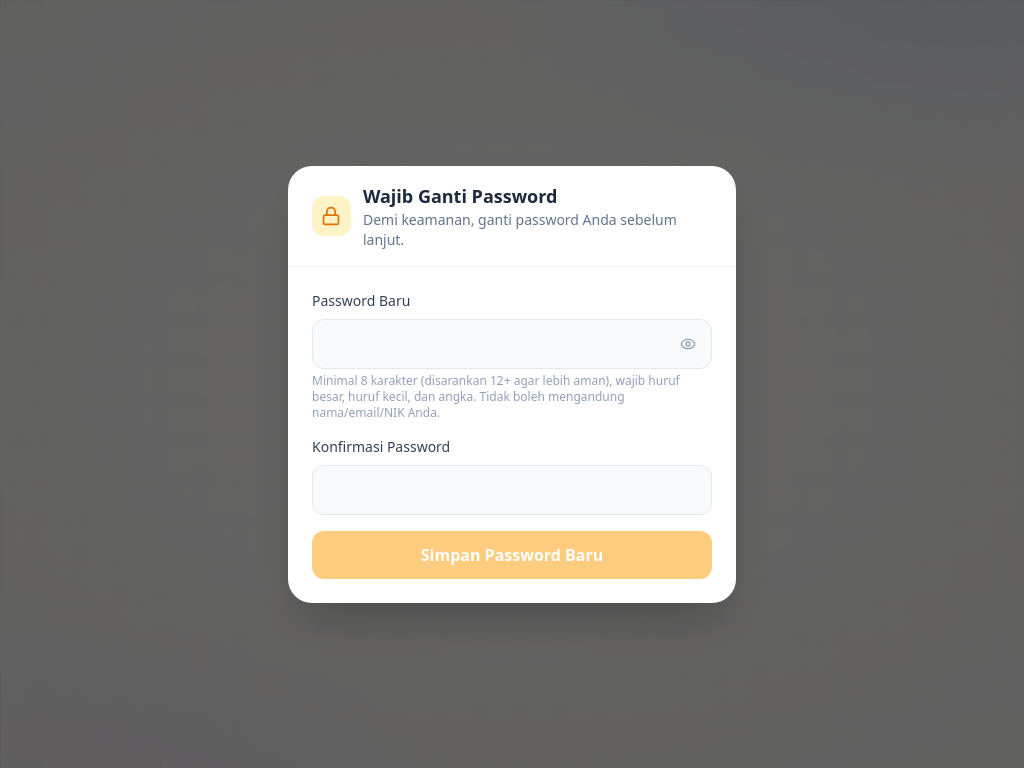
MustChangePasswordDialog › menolak password 123456 (terlalu pendek → ditangkap policy)
Type "123456" into the password field labelled "Password Baru" at (512, 344), box x1=312 y1=318 x2=712 y2=368
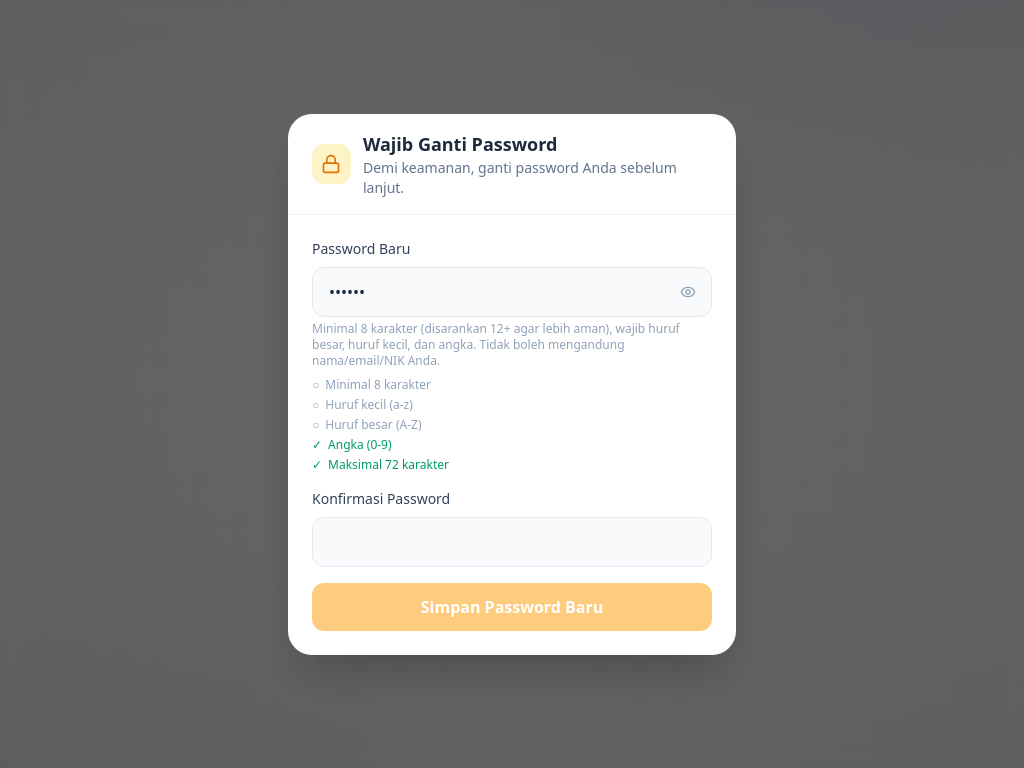
Type "123456" into the password field labelled "Konfirmasi Password" at (512, 542), box x1=312 y1=516 x2=712 y2=566
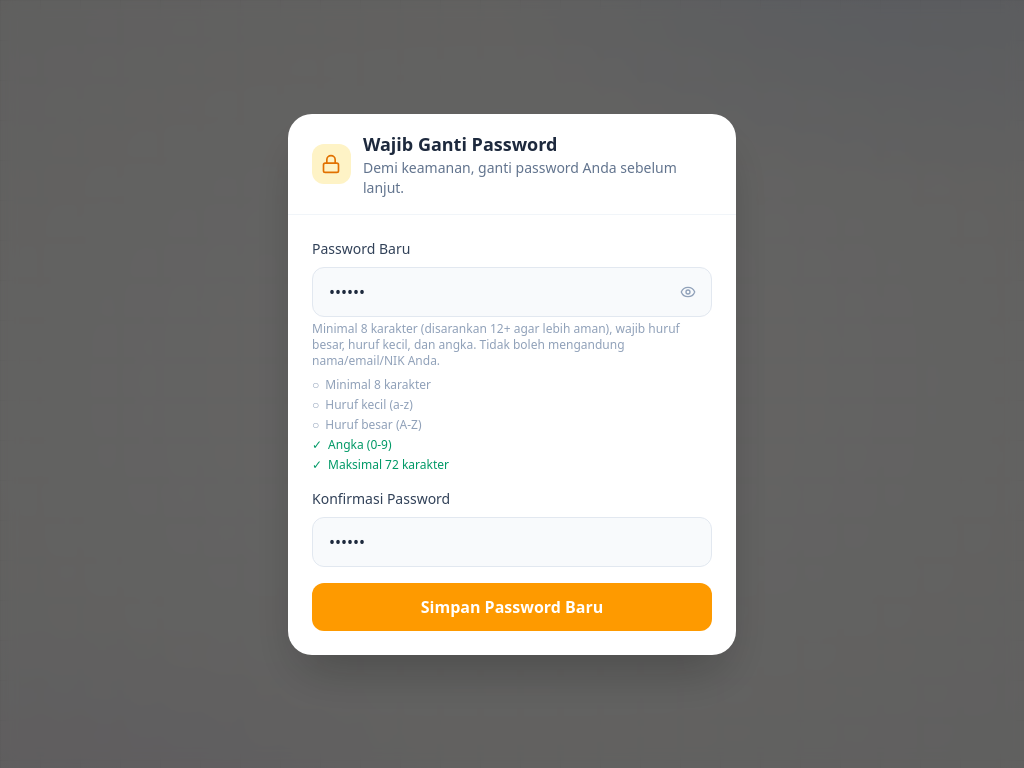
Click the button "Simpan Password Baru" at (512, 606), box x1=312 y1=582 x2=712 y2=630
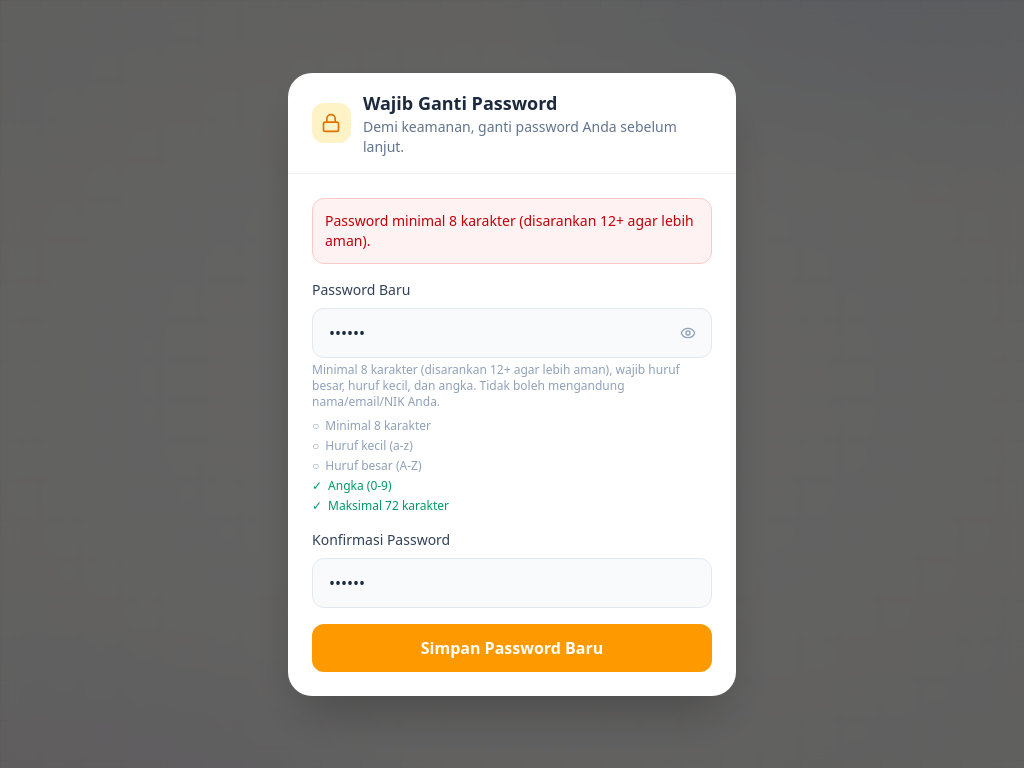
Expected: the text "minimal 8" is shown, x1=325 y1=210 x2=694 y2=250
